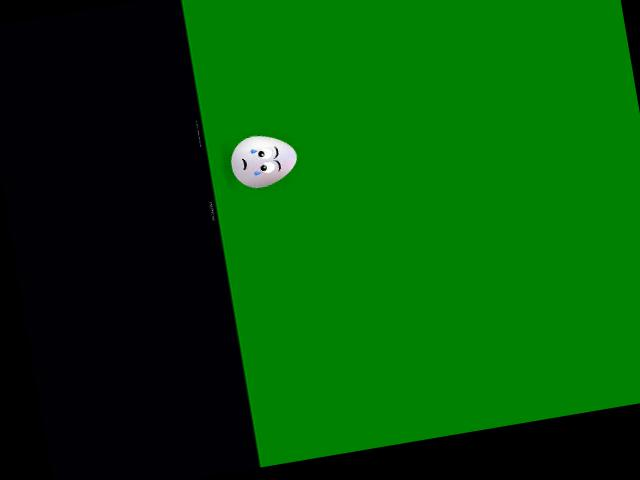egg: (227, 129, 300, 191)
